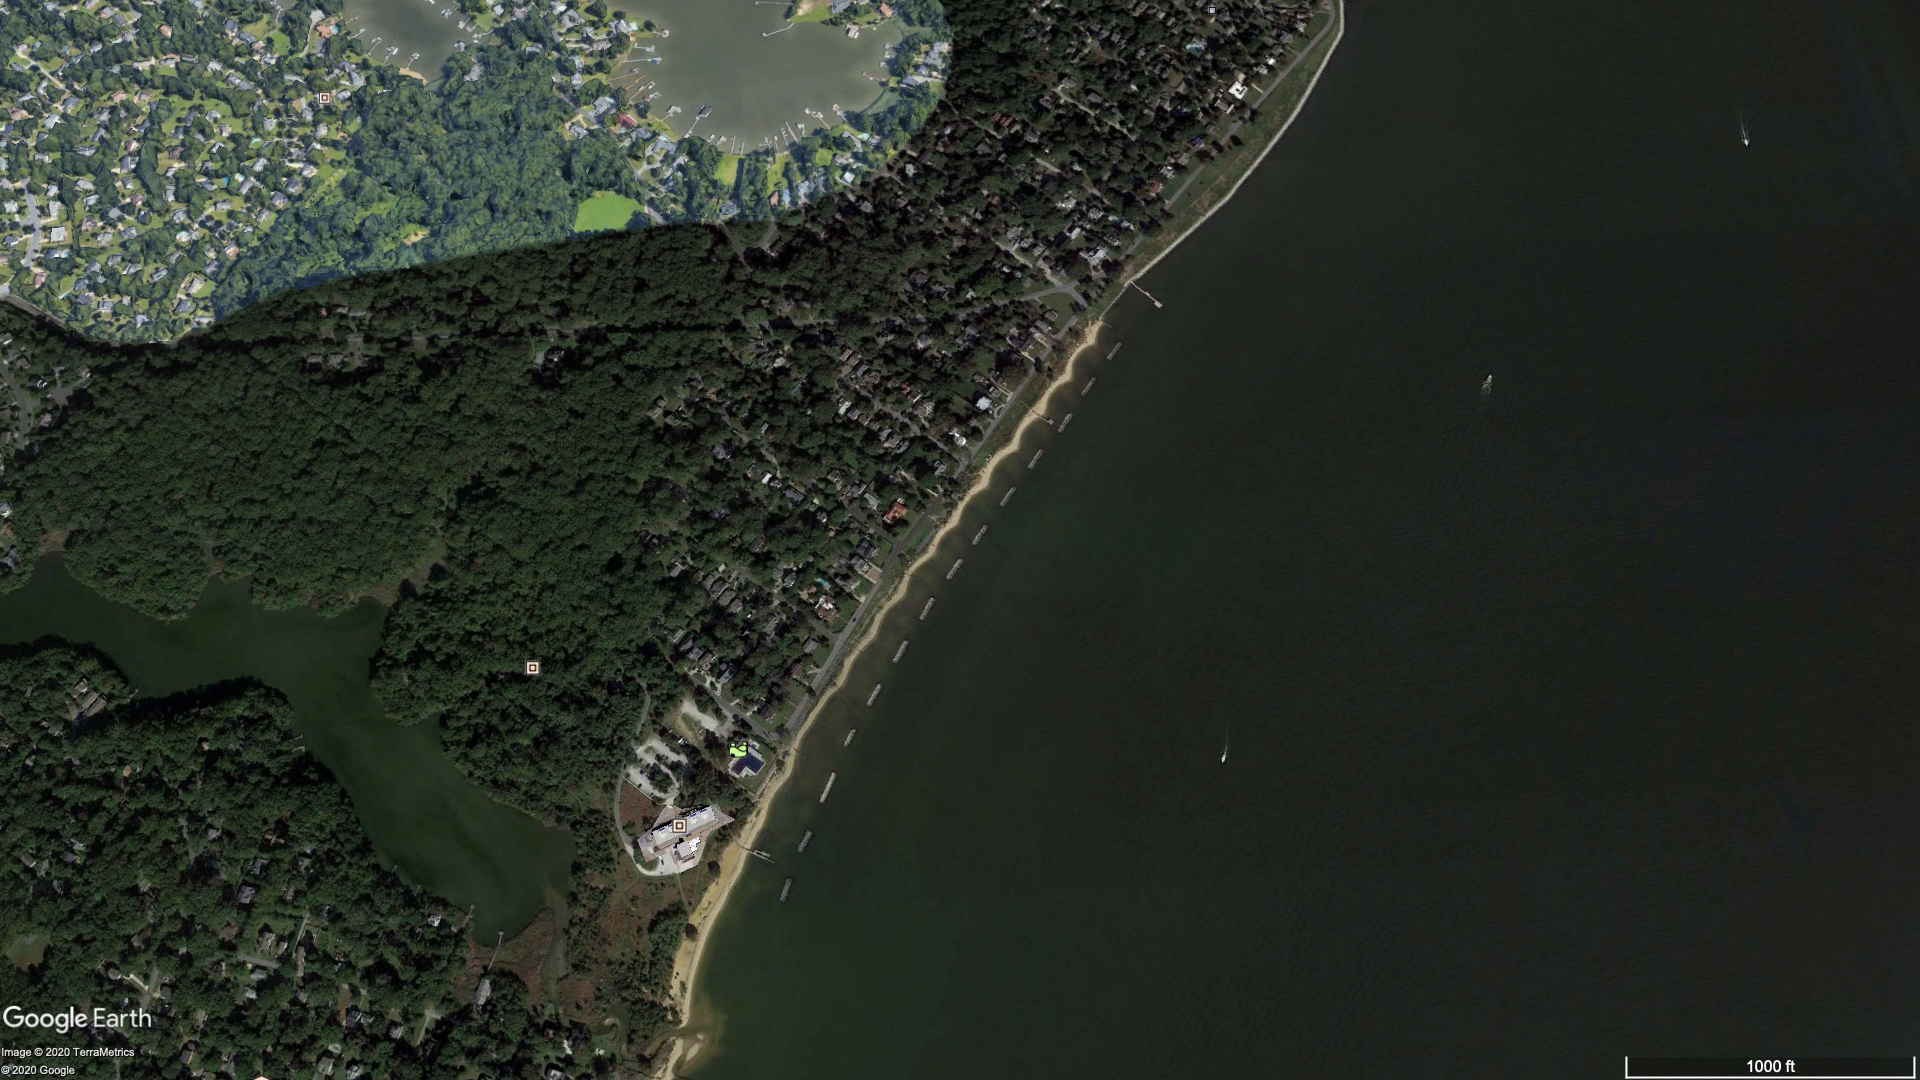boat: (1484, 373, 1491, 386), (1220, 752, 1226, 765), (1742, 138, 1751, 146)
